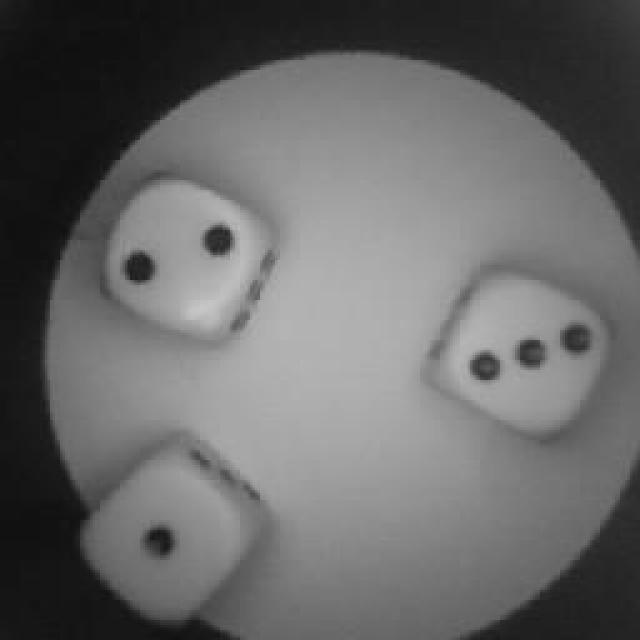dice_1: (88, 450, 262, 622)
dice_2: (108, 175, 278, 340)
dice_3: (437, 268, 615, 440)
